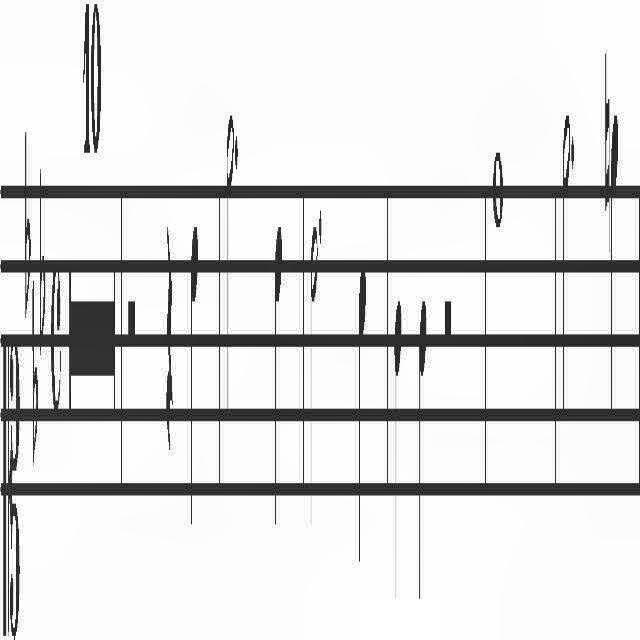Bemol: (22, 110, 30, 334), (30, 258, 38, 482), (38, 144, 46, 363)
Full-note: (493, 134, 503, 258)
Half-note: (222, 80, 234, 434), (561, 88, 571, 438), (309, 217, 319, 547)
Quarter-note: (186, 191, 202, 509), (415, 270, 429, 620), (272, 194, 284, 550), (356, 240, 368, 584), (608, 84, 620, 406), (392, 290, 404, 606)
Quarter-rest: (162, 186, 174, 489)
